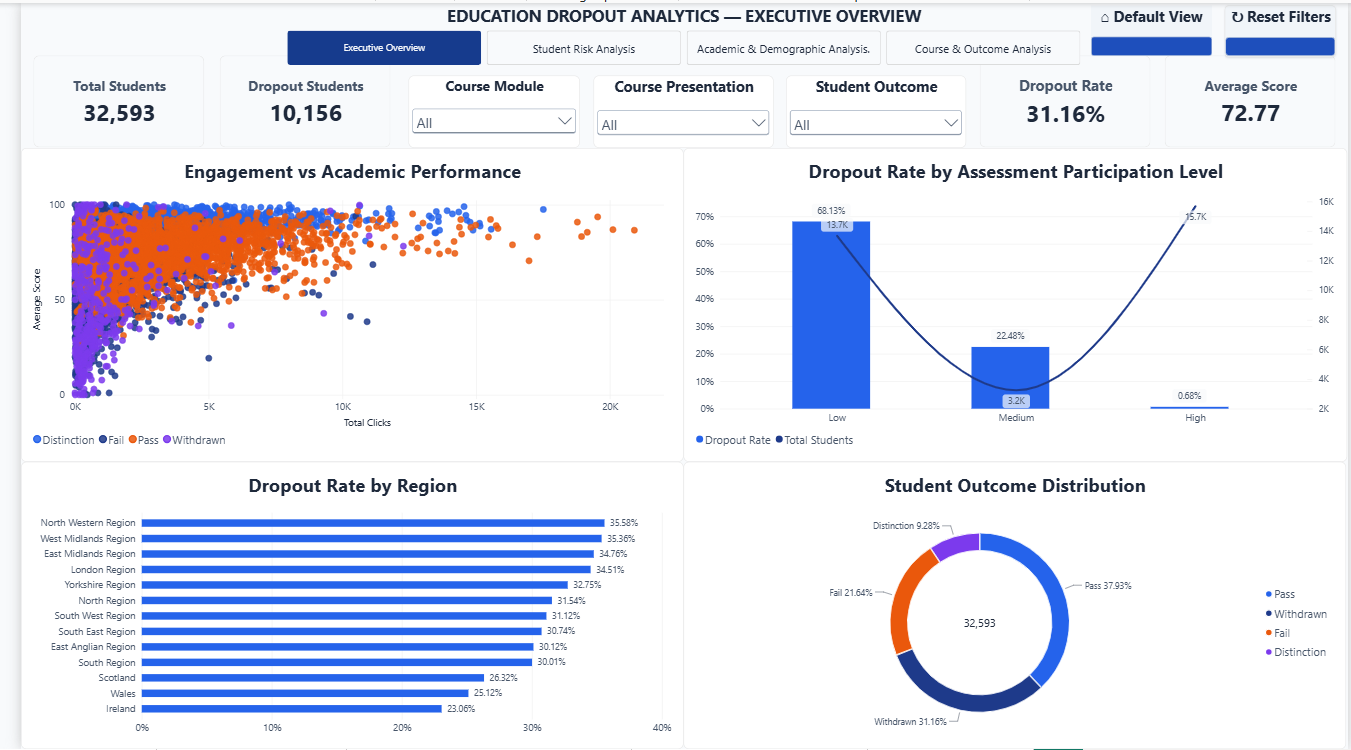

The page's visual inventory and layout, read from the dashboard file:
{"tool":"powerbi","page":{"name":"Executive Overview","canvas":[1920,1080],"ordinal":0},"visuals":[{"type":"cardVisual","fields":{"Data":["public master_analytical_dataset.Total Students"]},"box":[18.1,76,247.9,133.9],"z":0},{"type":"cardVisual","fields":{"Data":["public master_analytical_dataset.Dropout Students"]},"box":[287.7,76,247.9,133.9],"z":1000},{"type":"cardVisual","fields":{"Data":["public master_analytical_dataset.Dropout Rate"]},"box":[1388,76,247.9,133.9],"z":2000},{"type":"cardVisual","fields":{"Data":["public master_analytical_dataset.Average Score"]},"box":[1655.8,76,247.9,133.9],"z":3000},{"type":"scatterChart","title":"Engagement vs Academic Performance","fields":{"X":["Avg(public master_analytical_dataset.total_clicks)"],"Y":["Avg(public master_analytical_dataset.average_score)"],"Category":["public master_analytical_dataset.id_student"],"Series":["public master_analytical_dataset.final_result"]},"box":[0,209.9,959.1,454.2],"z":4000},{"type":"lineClusteredColumnComboChart","title":"Dropout Rate by Assessment Participation Level","fields":{"Category":["public master_analytical_dataset.Participation Level"],"Y":["public master_analytical_dataset.Dropout Rate"],"Y2":["public master_analytical_dataset.Total Students"]},"box":[959.1,209.9,960.9,454.2],"z":5000},{"type":"clusteredBarChart","title":"Dropout Rate by Region","fields":{"Category":["public master_analytical_dataset.region"],"Y":["public master_analytical_dataset.Dropout Rate"]},"box":[0,664.1,959.1,416.2],"z":6000},{"type":"donutChart","title":"Student Outcome Distribution","fields":{"Y":["public master_analytical_dataset.Total Students"],"Category":["public master_analytical_dataset.final_result"]},"box":[959.1,664.1,959.1,416.2],"z":7000},{"type":"textbox","box":[383.6,1.8,1152.8,38],"z":8000},{"type":"slicer","title":"Course Module","fields":{"Values":["public master_analytical_dataset.code_module"]},"box":[561,105,247.9,105],"z":9000},{"type":"slicer","title":"Course Presentation","fields":{"Values":["public master_analytical_dataset.code_presentation"]},"box":[828.8,105,260.6,105],"z":10000},{"type":"pageNavigator","box":[385.5,39.8,1149.1,50.7],"z":11000},{"type":"slicer","title":"Student Outcome","fields":{"Values":["public master_analytical_dataset.final_result"]},"box":[1107.5,105,260.6,105],"z":12000},{"type":"actionButton","title":"↻ Reset Filters","box":[1742.7,3.6,161.1,74.2],"z":13000},{"type":"actionButton","title":"⌂ Default View","box":[1549.1,3.6,175.3,73],"z":14000}]}

Visuals, with their boxes in screenshot pixels (x1, y1, x2, y2), scaled from the page's 1920x1080 canvas onto the 1351x750 screenshot:
cardVisual - public master_analytical_dataset.Total Students: (x1=13, y1=53, x2=187, y2=146)
cardVisual - public master_analytical_dataset.Dropout Students: (x1=202, y1=53, x2=377, y2=146)
cardVisual - public master_analytical_dataset.Dropout Rate: (x1=977, y1=53, x2=1151, y2=146)
cardVisual - public master_analytical_dataset.Average Score: (x1=1165, y1=53, x2=1340, y2=146)
"Engagement vs Academic Performance" scatterChart: (x1=0, y1=146, x2=675, y2=461)
"Dropout Rate by Assessment Participation Level" lineClusteredColumnComboChart: (x1=675, y1=146, x2=1350, y2=461)
"Dropout Rate by Region" clusteredBarChart: (x1=0, y1=461, x2=675, y2=749)
"Student Outcome Distribution" donutChart: (x1=675, y1=461, x2=1350, y2=749)
textbox: (x1=270, y1=1, x2=1081, y2=28)
"Course Module" slicer: (x1=395, y1=73, x2=569, y2=146)
"Course Presentation" slicer: (x1=583, y1=73, x2=767, y2=146)
pageNavigator: (x1=271, y1=28, x2=1080, y2=63)
"Student Outcome" slicer: (x1=779, y1=73, x2=963, y2=146)
"↻ Reset Filters" actionButton: (x1=1226, y1=2, x2=1340, y2=54)
"⌂ Default View" actionButton: (x1=1090, y1=2, x2=1213, y2=53)
